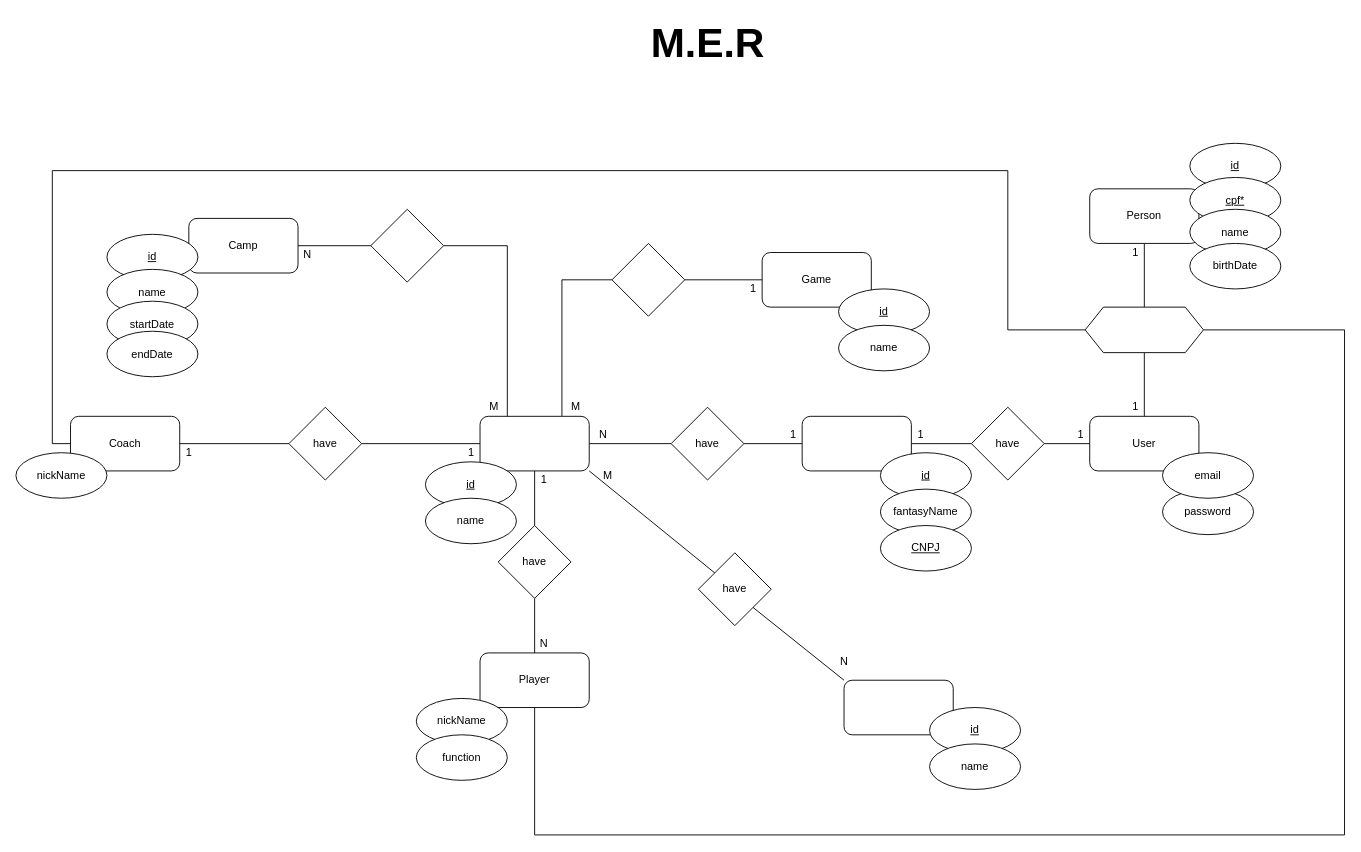
The diagram is 1361 pixels wide and 852 high, and some of its shapes have lost their labels. The centre of each missing label's shape, as x and y in pixels:
"Enterprise" goes at pixel 856 443.
"Is a" goes at pixel 1143 329.
"it is" goes at pixel 407 245.
"play" goes at pixel 648 279.
"Sponsor" goes at pixel 898 707.
"Time" goes at pixel 534 443.
